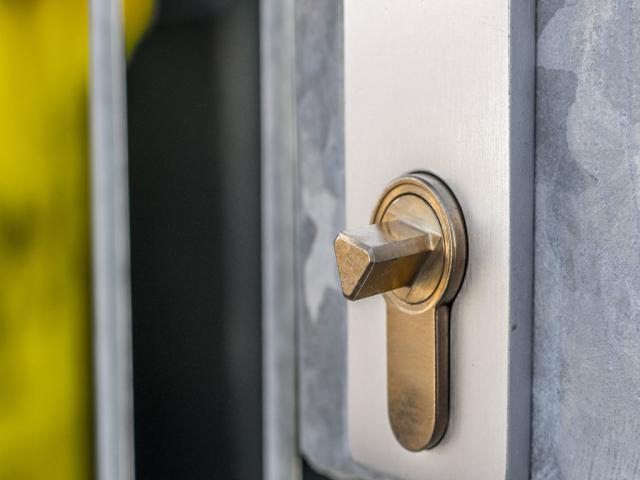Door-handle: (334, 0, 536, 479)
